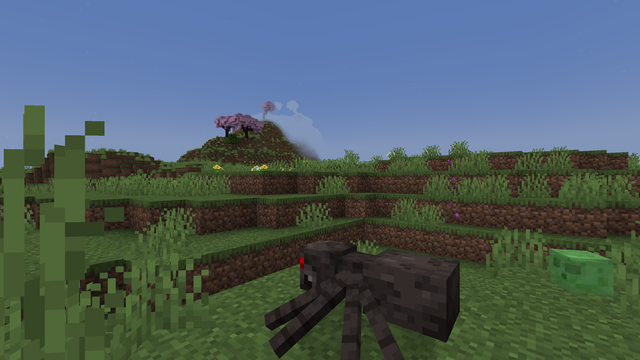araignees: (271, 227, 444, 356)
slimes: (554, 246, 607, 297)
